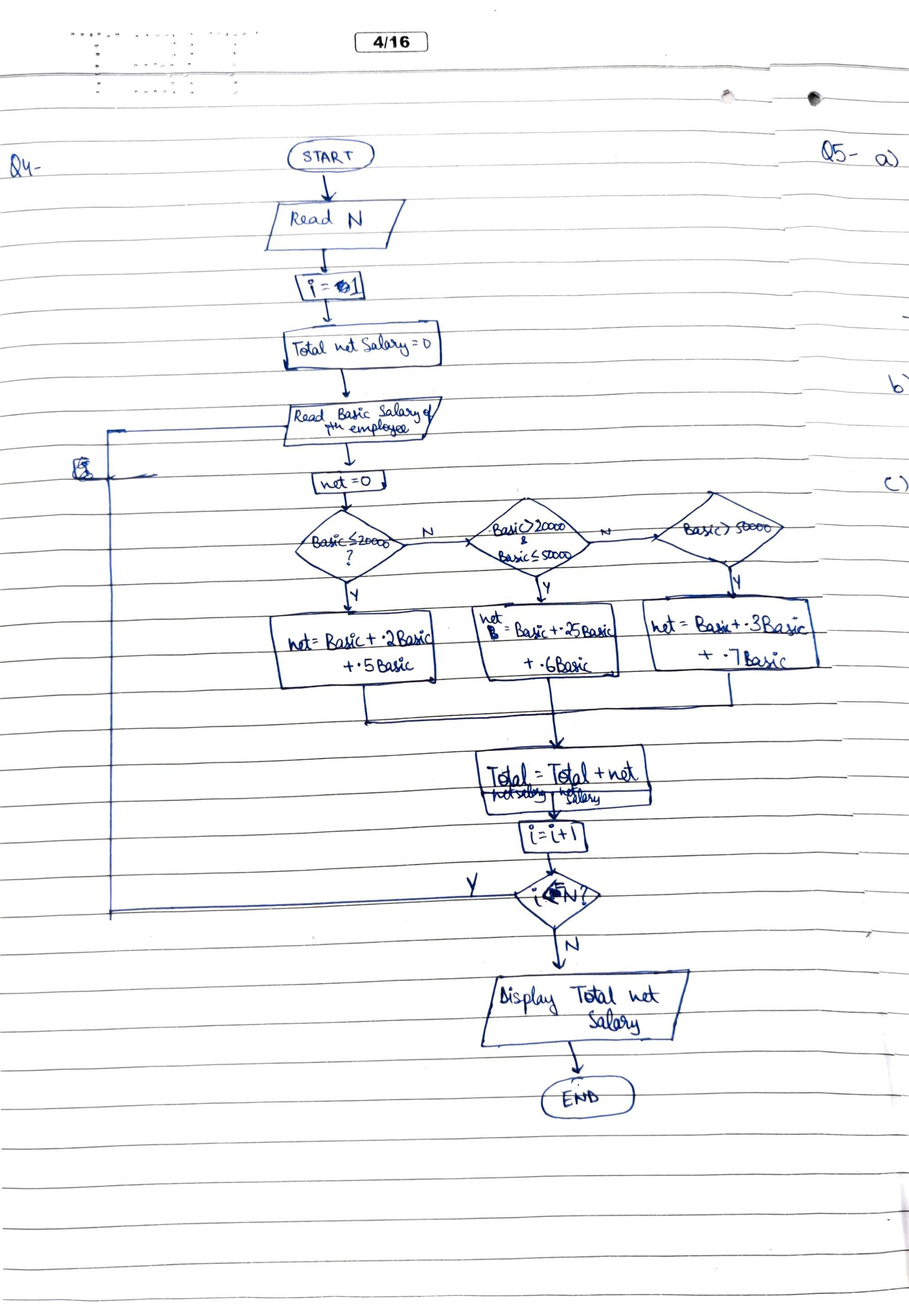cuttings: (71, 456, 159, 483), (333, 279, 351, 294), (486, 625, 499, 641)
